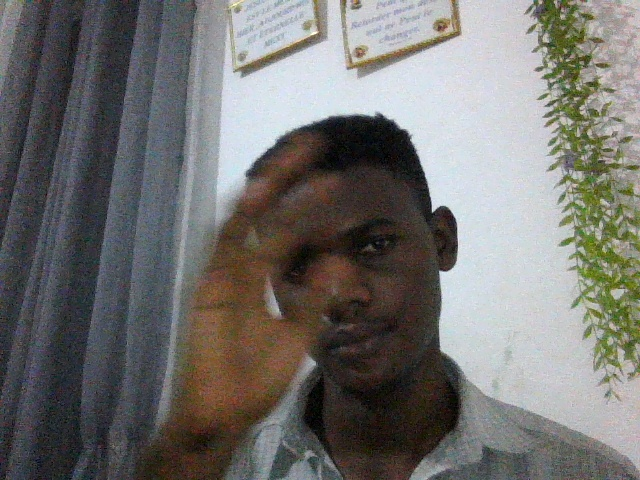hand: (181, 135, 350, 435)
